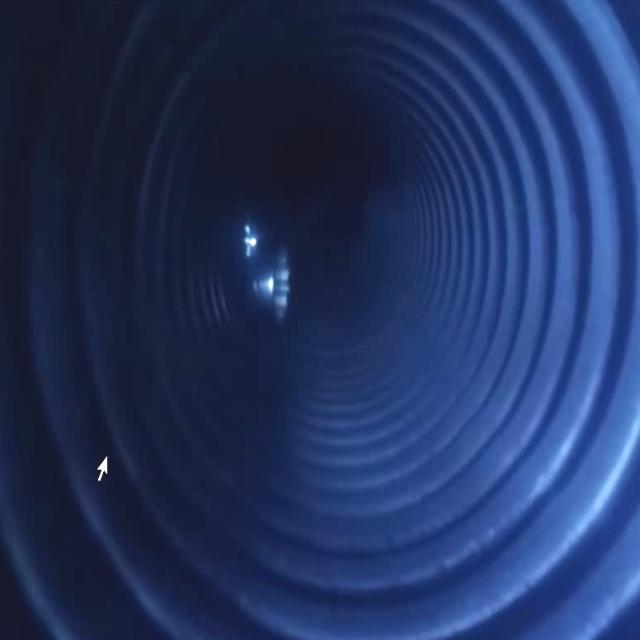metal piece: (230, 205, 293, 332)
